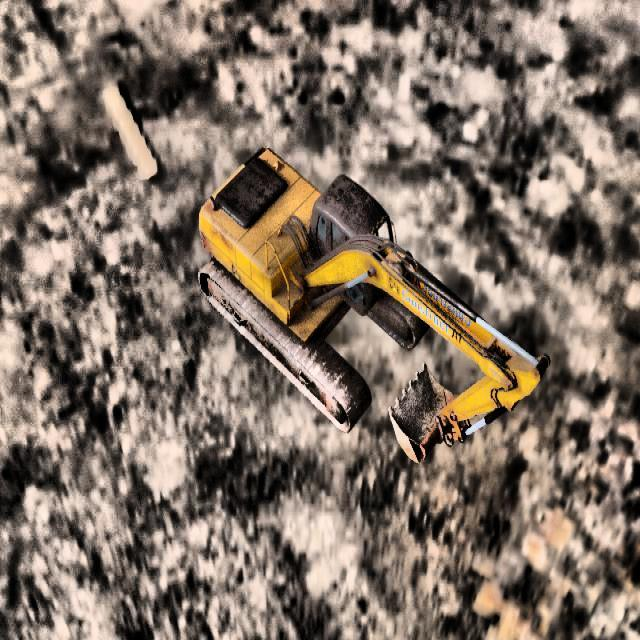excavator: (197, 147, 550, 463)
